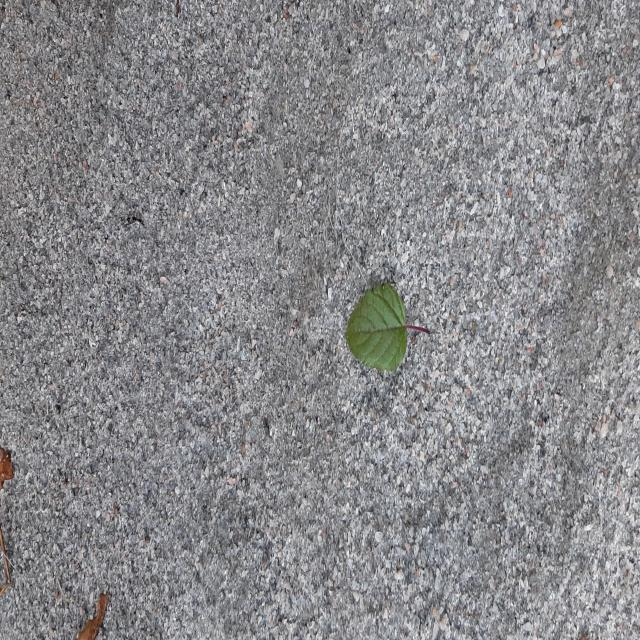tulsi: (346, 282, 429, 371)
